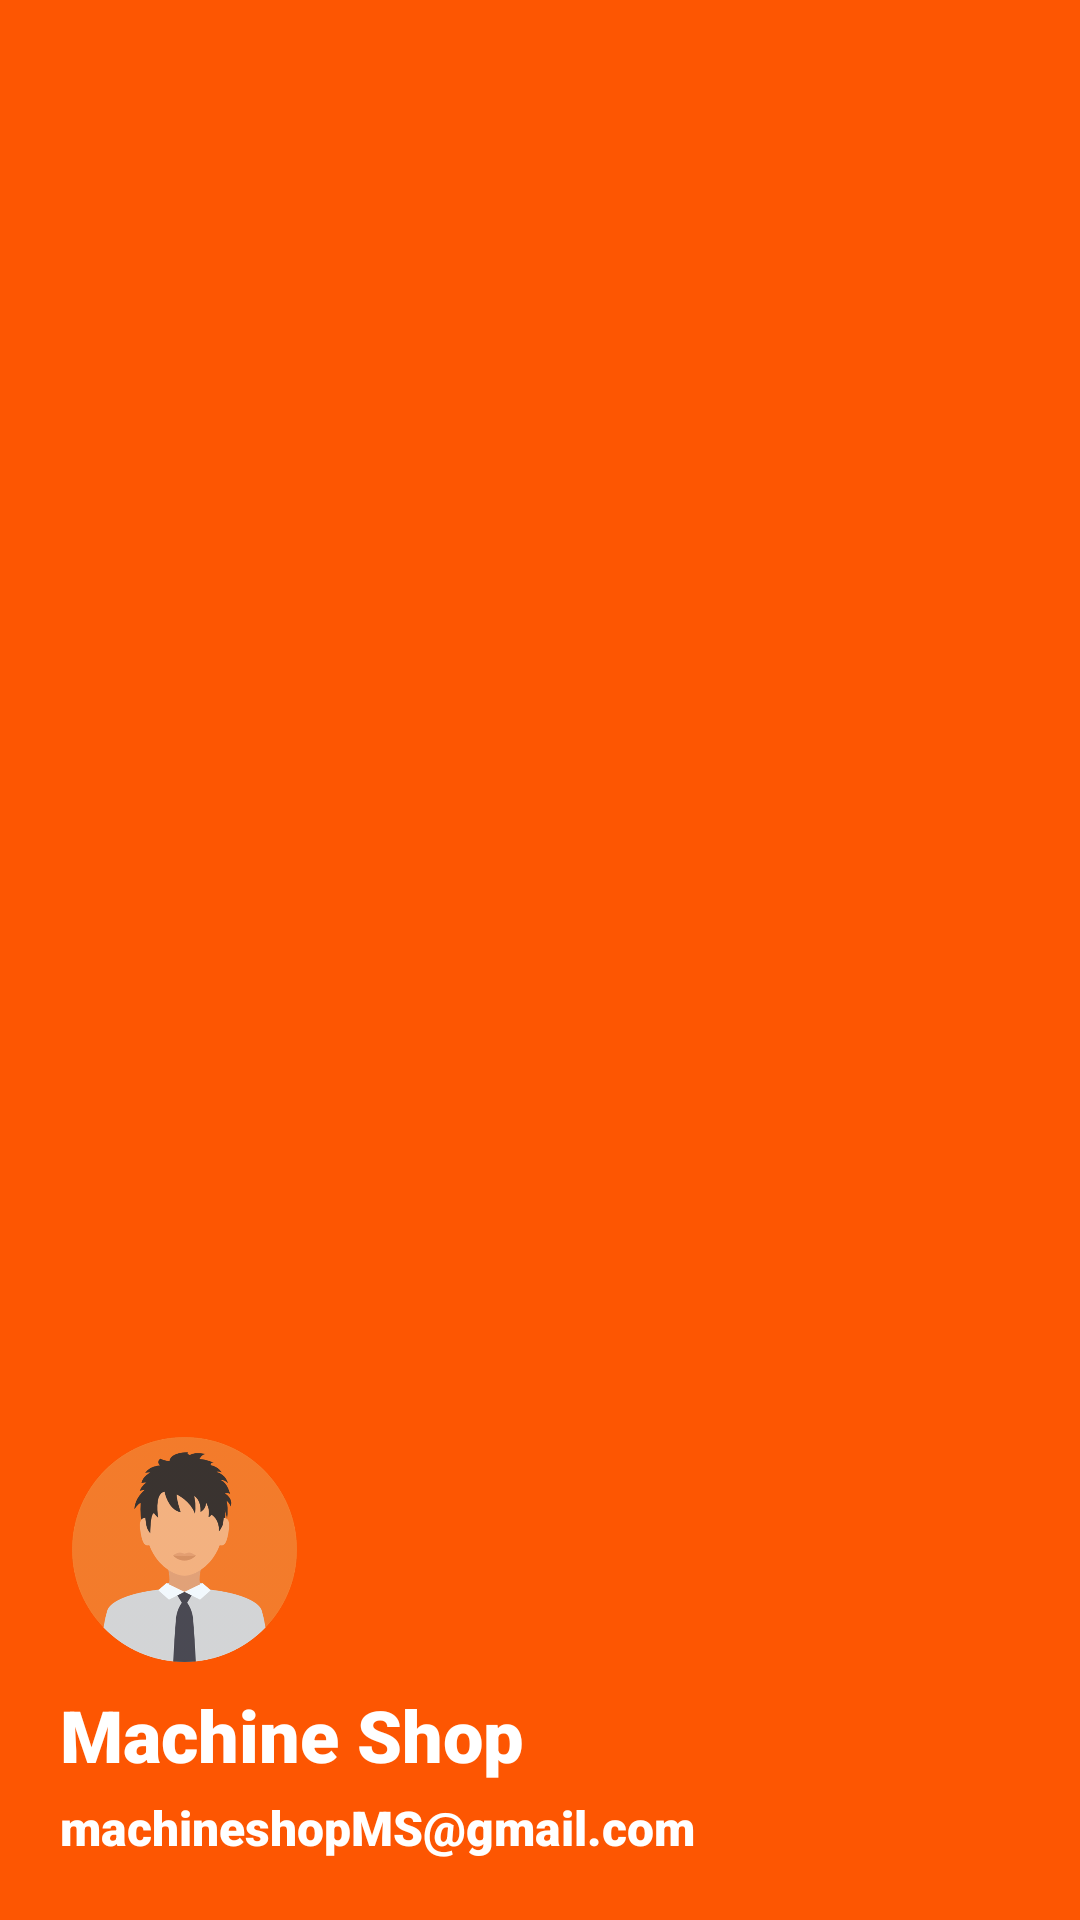

Where to tap for icons on this 1080×1920 app screen, as (x=x, y=y):
user: (x=184, y=1549)
